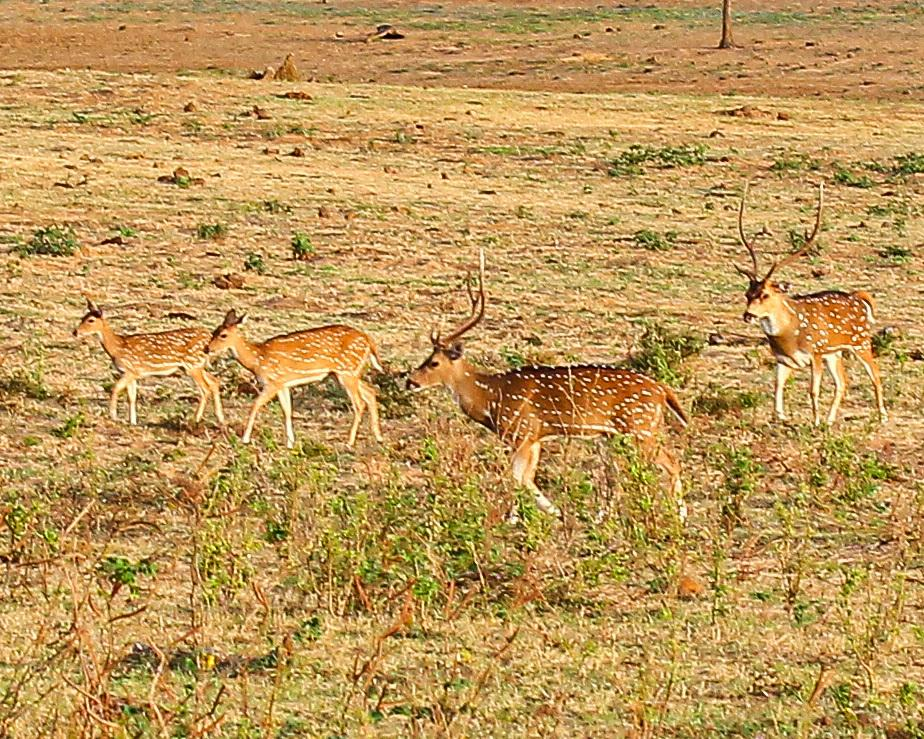Deer: (406, 249, 687, 513), (736, 182, 886, 424), (206, 309, 382, 446), (73, 301, 226, 424)
